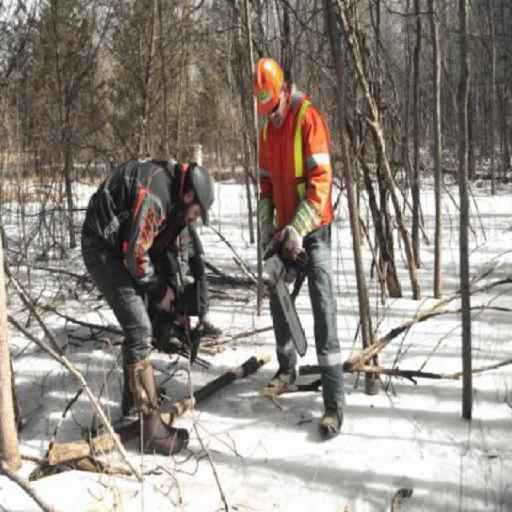person: (68, 142, 218, 464), (240, 43, 356, 448)
vest: (256, 116, 344, 233)
